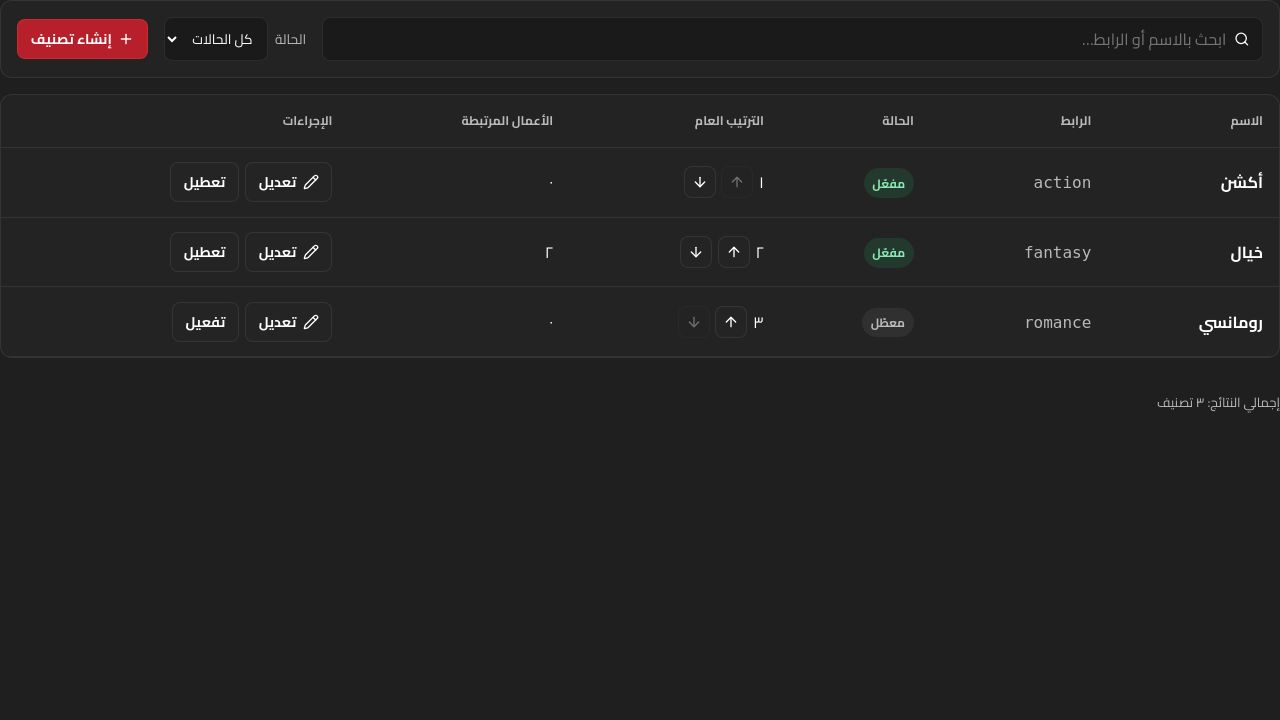
AdminCategories › keeps slug immutable, focuses invalid fields, and retains draft on validation failure
Expected: the text "رومانسي" is shown, [1199,307,1263,337]
Click the button "تعديل" in the row of "رومانسي": click(289, 322) [245,302,332,342]
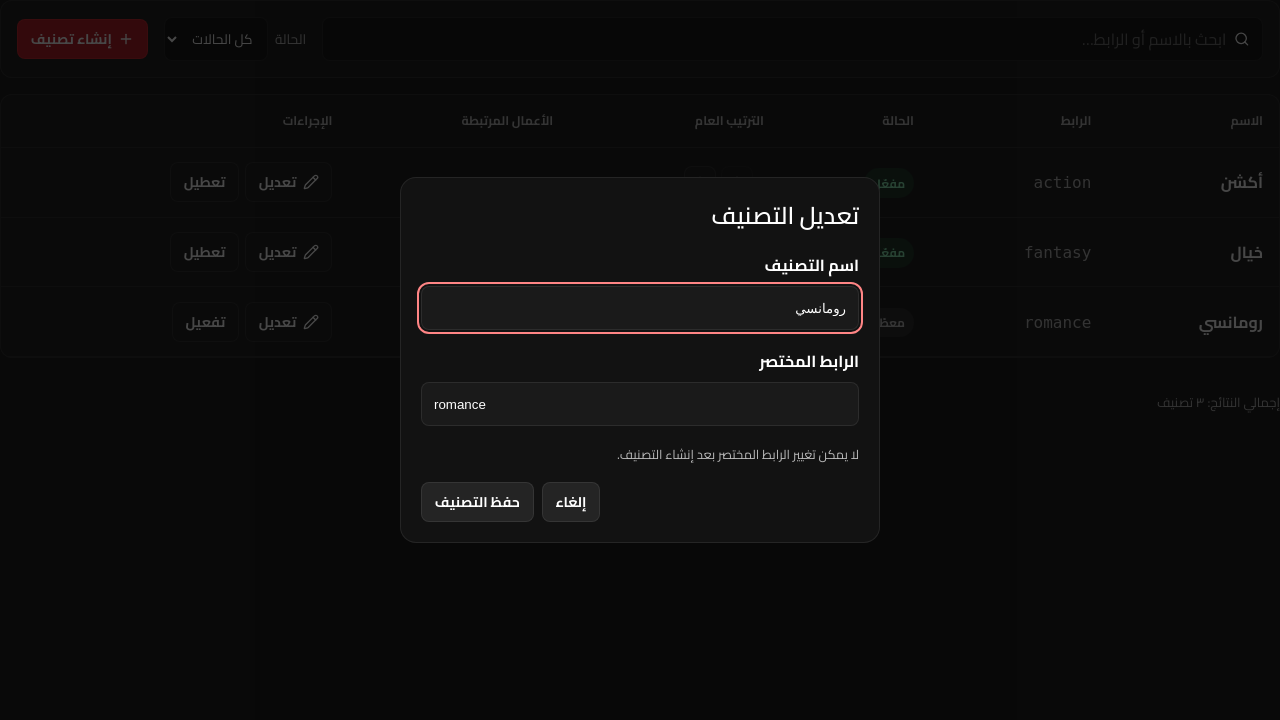
Expected: the button "حفظ التصنيف" is enabled, [421,482,534,522]
Replace the text in the field labelled "اسم التصنيف" with "رومانسية": (640, 308) [421,286,859,330]
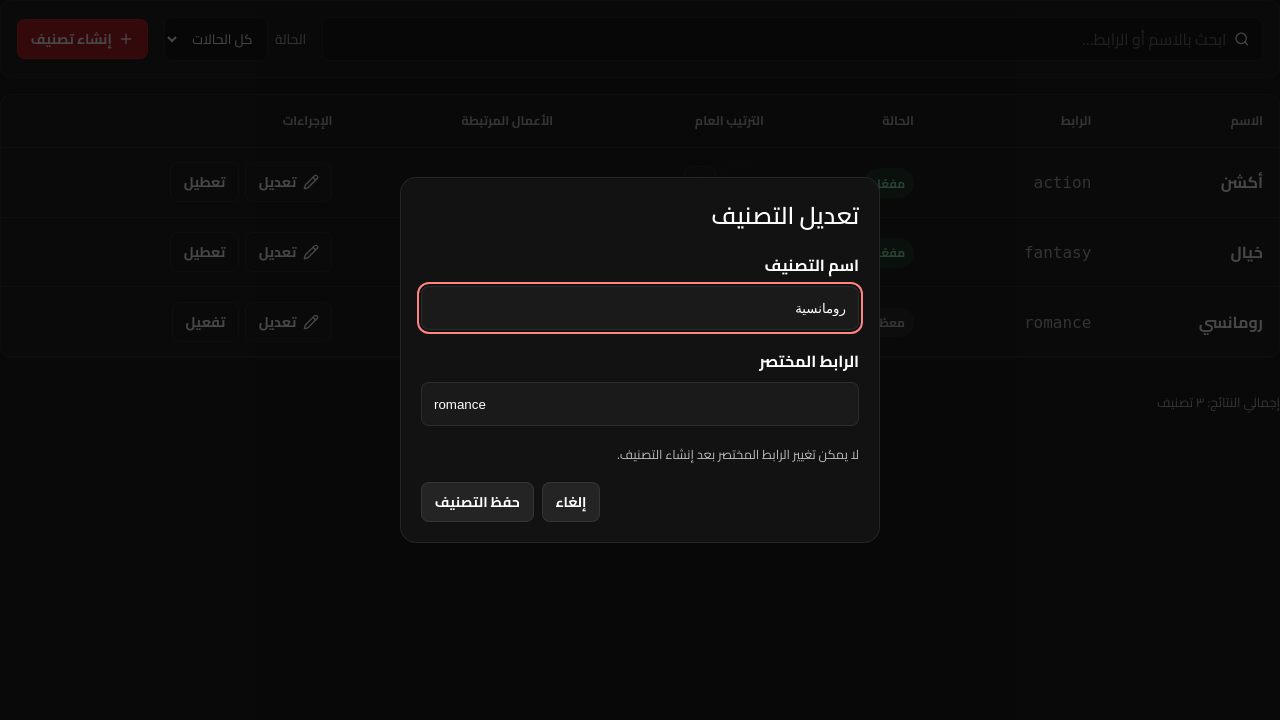
Click the button "حفظ التصنيف": click(477, 502) [421,482,534,522]
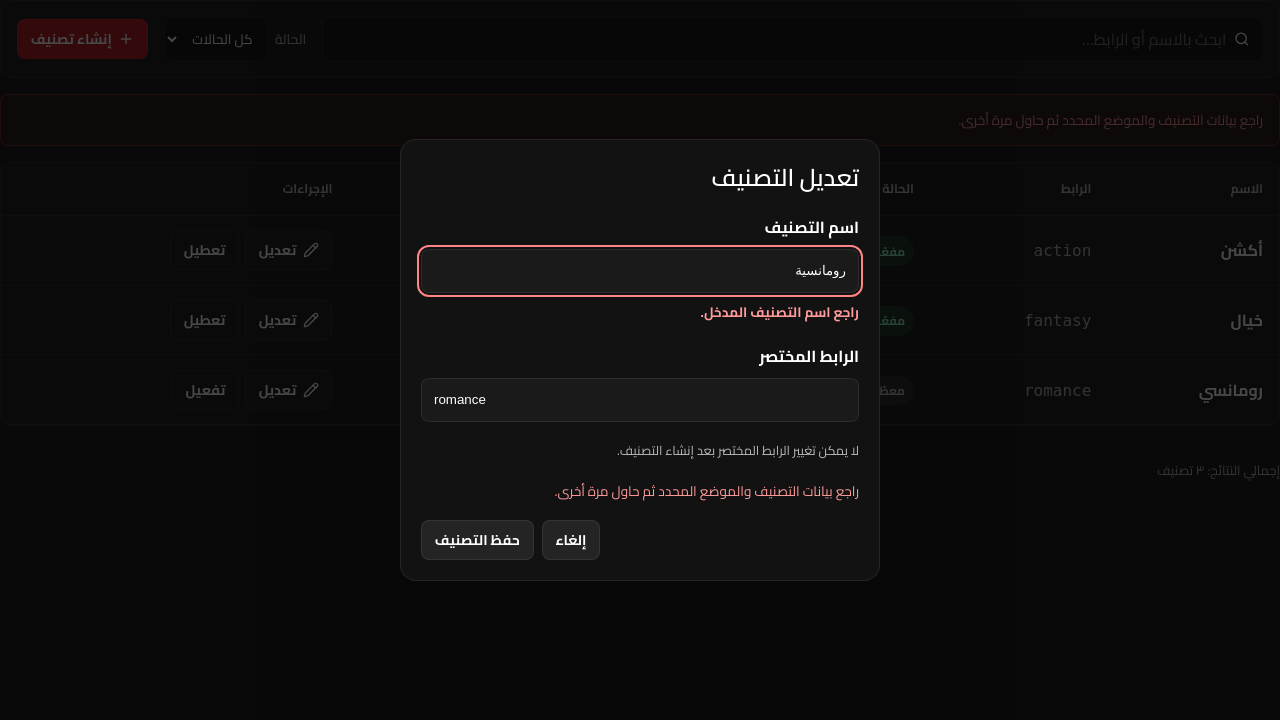
Expected: the text "راجع اسم التصنيف المدخل." is shown, [701,299,859,325]
Click the button "حفظ التصنيف": click(477, 540) [421,520,534,560]
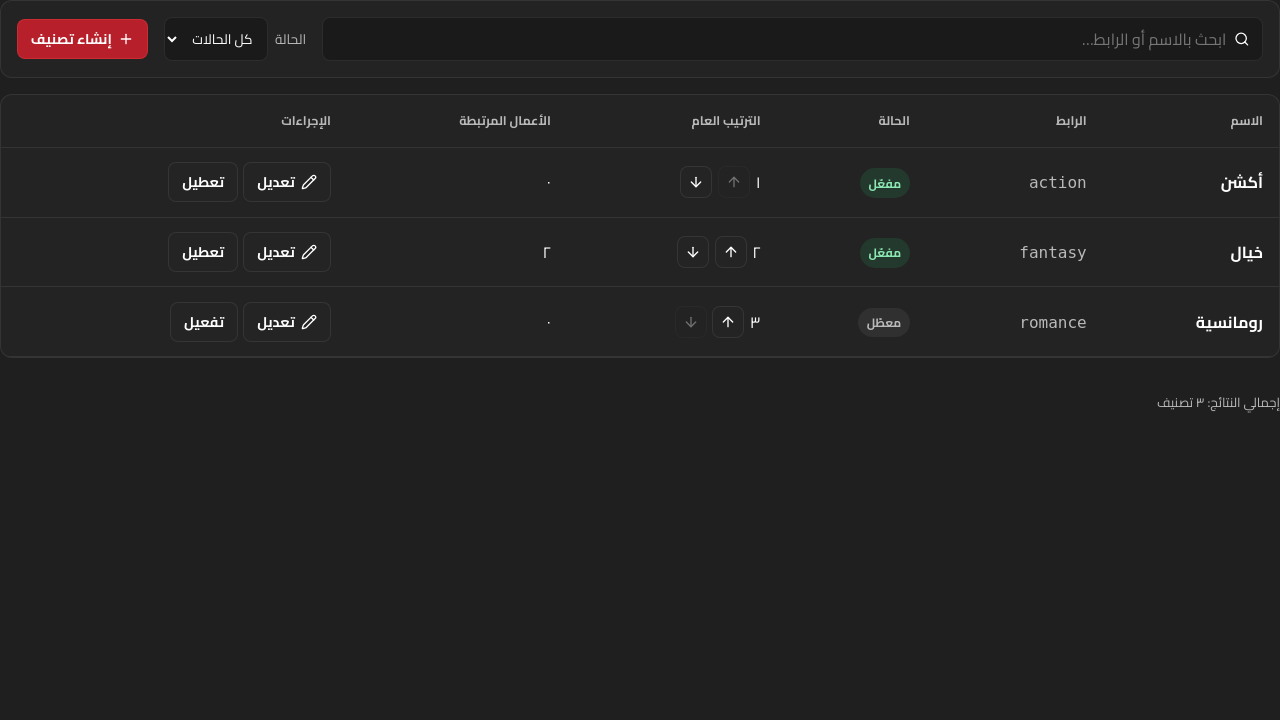
Expected: the text "رومانسية" is shown, [1196,307,1263,337]
Expected: the dialog is gone
